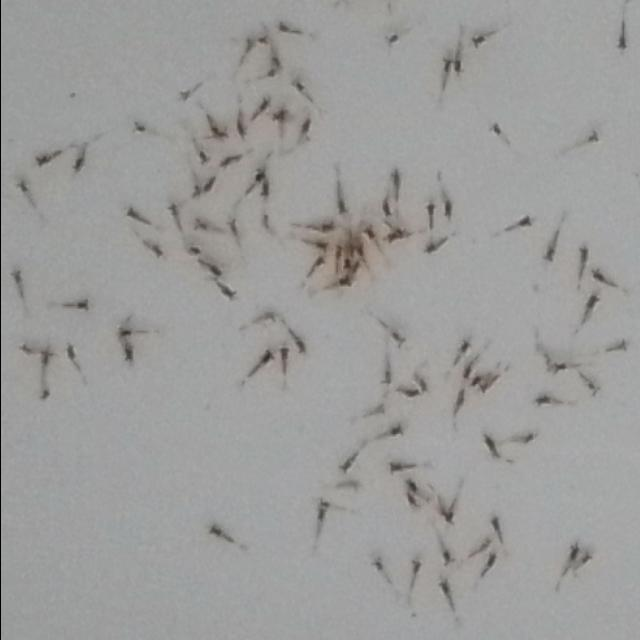shrimp-seed: (6, 268, 24, 290), (70, 155, 88, 177), (406, 556, 424, 576), (581, 293, 600, 311), (120, 346, 137, 366), (220, 283, 237, 303), (482, 436, 496, 460), (260, 308, 278, 326), (540, 246, 558, 264), (390, 329, 406, 349), (218, 154, 238, 170), (234, 114, 246, 140), (450, 391, 464, 413), (576, 242, 590, 264), (130, 118, 147, 136), (257, 348, 274, 366), (206, 524, 225, 540), (586, 378, 602, 397), (34, 150, 50, 168), (148, 242, 164, 260), (314, 496, 332, 512), (404, 479, 420, 497), (520, 429, 536, 447), (534, 394, 552, 410), (516, 214, 532, 232), (584, 128, 600, 146), (336, 273, 352, 291), (292, 336, 306, 356), (566, 542, 580, 562), (12, 178, 29, 194), (190, 217, 206, 234), (479, 376, 495, 393), (76, 297, 92, 313), (164, 202, 180, 218), (438, 550, 454, 566), (318, 219, 334, 235), (449, 57, 464, 74), (614, 34, 628, 52), (337, 458, 351, 476), (484, 551, 496, 572), (614, 338, 628, 356), (258, 214, 272, 232), (360, 222, 374, 240), (206, 262, 221, 278), (278, 346, 290, 366), (413, 376, 428, 392), (589, 268, 604, 284), (486, 122, 501, 138), (382, 32, 397, 48), (298, 116, 310, 136), (442, 200, 454, 220), (422, 202, 435, 220), (258, 95, 270, 114), (388, 170, 400, 189), (386, 462, 401, 477), (115, 327, 131, 341), (124, 206, 138, 222), (196, 150, 210, 166), (369, 556, 383, 572), (436, 580, 450, 596), (388, 424, 402, 440), (254, 32, 268, 48), (268, 54, 282, 70), (310, 254, 324, 270), (314, 238, 328, 254), (224, 217, 236, 235), (380, 368, 392, 386), (258, 180, 270, 198), (15, 342, 29, 357), (348, 479, 362, 494), (456, 339, 470, 354), (439, 56, 453, 71), (205, 176, 218, 192), (468, 372, 481, 388), (62, 344, 74, 361), (177, 88, 189, 105), (189, 183, 201, 200), (206, 121, 218, 138), (479, 536, 491, 553), (188, 242, 202, 256), (552, 360, 566, 374), (470, 36, 484, 50), (242, 38, 256, 52), (335, 201, 349, 215), (423, 242, 437, 256), (37, 348, 49, 364), (217, 125, 229, 141), (579, 550, 591, 566), (330, 244, 342, 260), (544, 358, 556, 374), (313, 509, 327, 522), (264, 65, 278, 78), (339, 257, 352, 271), (442, 508, 453, 524), (372, 403, 384, 417), (405, 388, 419, 400), (290, 77, 302, 91), (348, 261, 360, 275), (350, 243, 362, 257), (391, 226, 403, 240), (253, 167, 264, 182), (488, 516, 498, 532), (461, 364, 471, 380), (380, 202, 390, 218), (274, 21, 286, 34), (36, 391, 50, 402), (405, 493, 415, 507), (270, 111, 280, 124), (276, 107, 286, 119), (384, 232, 394, 244)
